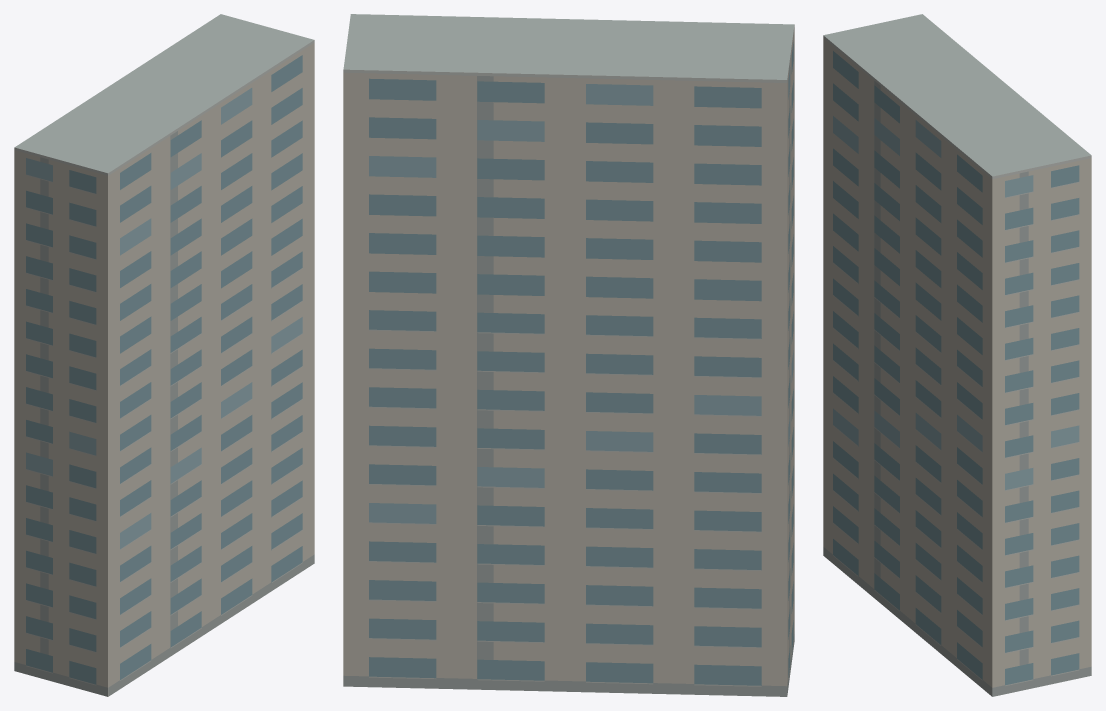
Rendered from residential-93865743-b39a-4b2b-bbe4-7e582544bb1f.glb.
3 views of the same model, side by side, from view 1: azimuth 30°, elevation 25°; view 2: azimuth 150°, elevation 25°; view 3: azimuth 270°, elevation 25° (orthographic). The views are drawn at different scales.
Parts seen in each view (by area): view 1: residential-93865743-b39a-4b2b-bbe4-7e582544bb1f.tmp; view 2: residential-93865743-b39a-4b2b-bbe4-7e582544bb1f.tmp; view 3: residential-93865743-b39a-4b2b-bbe4-7e582544bb1f.tmp.
Part boxes in pixels (left/top/right/bottom): residential-93865743-b39a-4b2b-bbe4-7e582544bb1f.tmp: left=14, top=14, right=314, bottom=696; residential-93865743-b39a-4b2b-bbe4-7e582544bb1f.tmp: left=343, top=14, right=794, bottom=696; residential-93865743-b39a-4b2b-bbe4-7e582544bb1f.tmp: left=823, top=14, right=1091, bottom=696.
Size of the model in its own units: 32.84 by 49 by 22.92.
